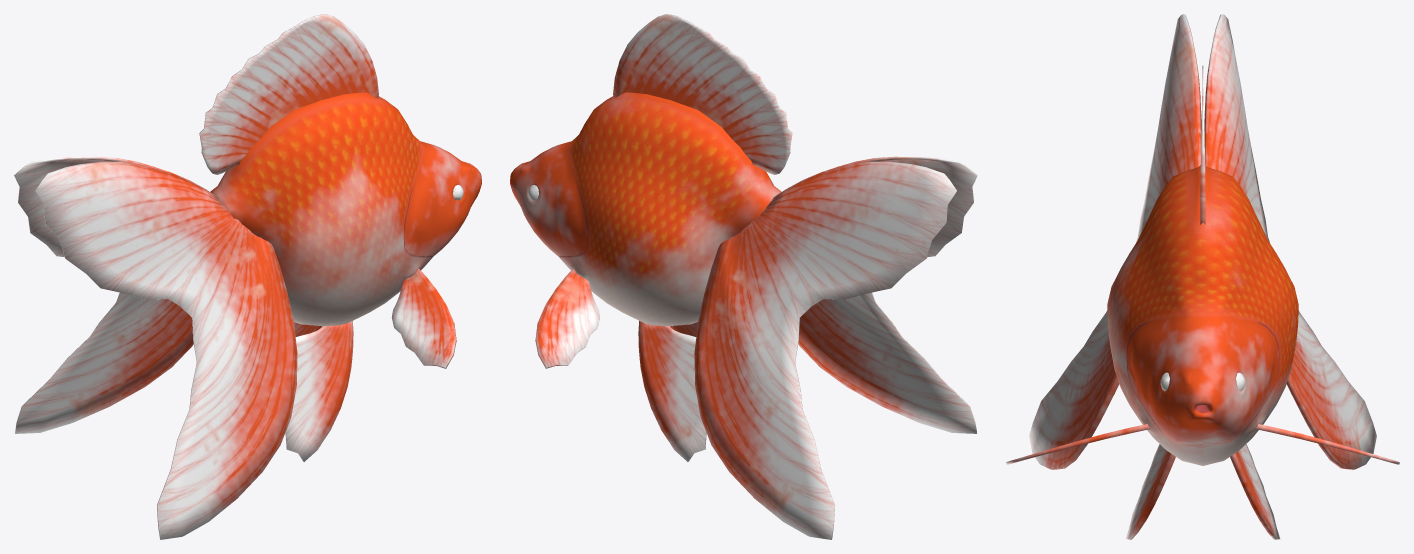
Rendered from ryukin-packed-v1.glb.
3 views of the same model, side by side, from view 1: azimuth 30°, elevation 25°; view 2: azimuth 150°, elevation 25°; view 3: azimuth 270°, elevation 25° (orthographic). The views are drawn at different scales.
Parts seen in each view (by area): view 1: SW_ryukin_fin_caudal, SW_ryukin_body, SW_ryukin_fin_dorsal, SW_ryukin_fin_pelvic_R, SW_ryukin_fin_pectoral_R; view 2: SW_ryukin_fin_caudal, SW_ryukin_body, SW_ryukin_fin_dorsal, SW_ryukin_fin_pelvic_L, SW_ryukin_fin_pectoral_L; view 3: SW_ryukin_body, SW_ryukin_fin_caudal, SW_ryukin_fin_pelvic_L, SW_ryukin_fin_pelvic_R, SW_ryukin_fin_pectoral_L, SW_ryukin_fin_pectoral_R, SW_ryukin_fin_dorsal.
Part boxes in pixels (<box>): SW_ryukin_fin_caudal: <box>14,156,297,539</box>; SW_ryukin_body: <box>210,92,481,326</box>; SW_ryukin_fin_dorsal: <box>199,14,378,174</box>; SW_ryukin_fin_pelvic_R: <box>285,321,353,461</box>; SW_ryukin_fin_pectoral_R: <box>391,268,456,368</box>; SW_ryukin_fin_caudal: <box>694,156,977,539</box>; SW_ryukin_body: <box>510,92,781,326</box>; SW_ryukin_fin_dorsal: <box>613,14,792,174</box>; SW_ryukin_fin_pelvic_L: <box>638,321,706,461</box>; SW_ryukin_fin_pectoral_L: <box>535,268,600,368</box>; SW_ryukin_body: <box>1107,165,1298,465</box>; SW_ryukin_fin_caudal: <box>1029,14,1376,469</box>; SW_ryukin_fin_pelvic_L: <box>1230,444,1280,539</box>; SW_ryukin_fin_pelvic_R: <box>1125,444,1175,539</box>; SW_ryukin_fin_pectoral_L: <box>1255,424,1399,464</box>; SW_ryukin_fin_pectoral_R: <box>1006,424,1150,464</box>; SW_ryukin_fin_dorsal: <box>1200,65,1205,224</box>.
Size of the model in its own units: 2.2 by 1.94 by 1.39.
Materials: 3 (3 with a texture image).
